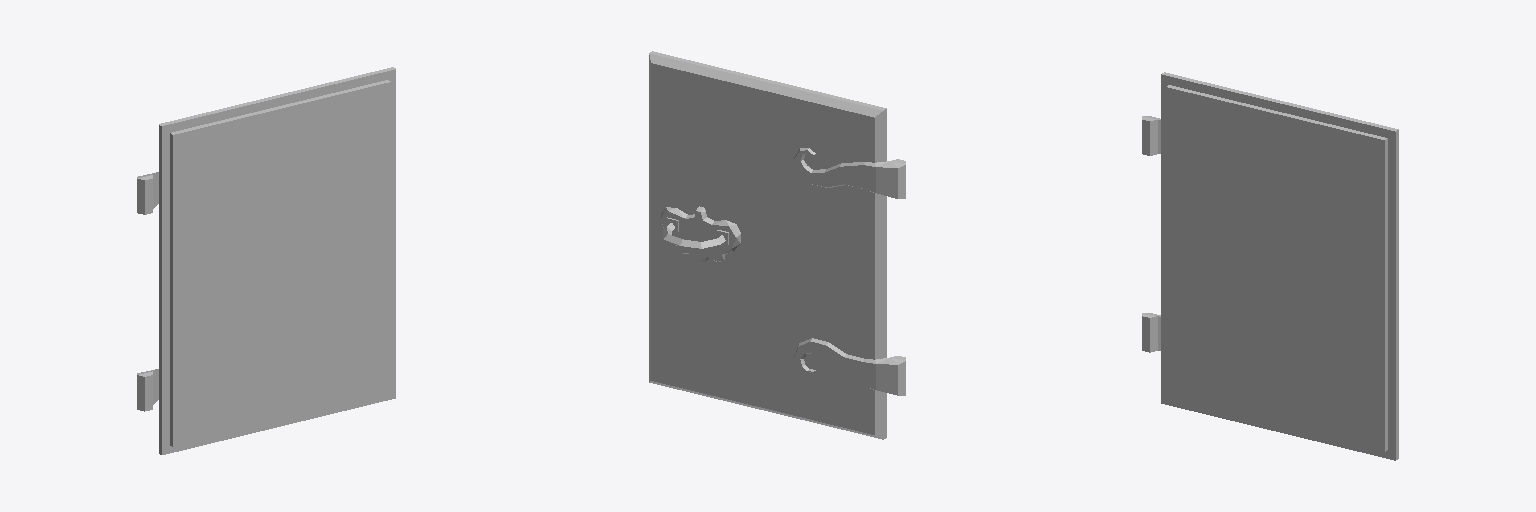
Rendered from workdesk_door.obj.
3 views of the same model, side by side, from view 1: azimuth 30°, elevation 25°; view 2: azimuth 150°, elevation 25°; view 3: azimuth 330°, elevation 25° (orthographic).
Visible parts, largest first — view 1: work_desk_door_mesh; view 2: work_desk_door_mesh; view 3: work_desk_door_mesh.
Boxes of the visible parts, box(x1,y1,x2,y2) form: work_desk_door_mesh: box(137, 67, 395, 454); work_desk_door_mesh: box(649, 51, 905, 439); work_desk_door_mesh: box(1142, 72, 1398, 460).
Bounding box in the file's own units: 0.5794 × 0.7114 × 0.1198.